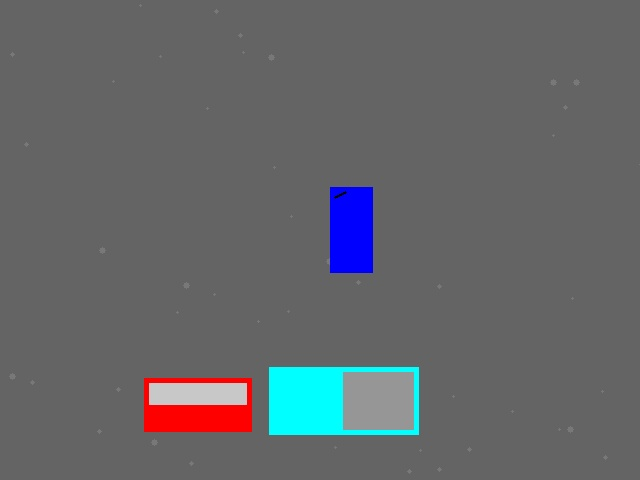car: (144, 378, 251, 431)
motorcycle: (330, 187, 372, 272)
truck: (269, 367, 418, 434)
